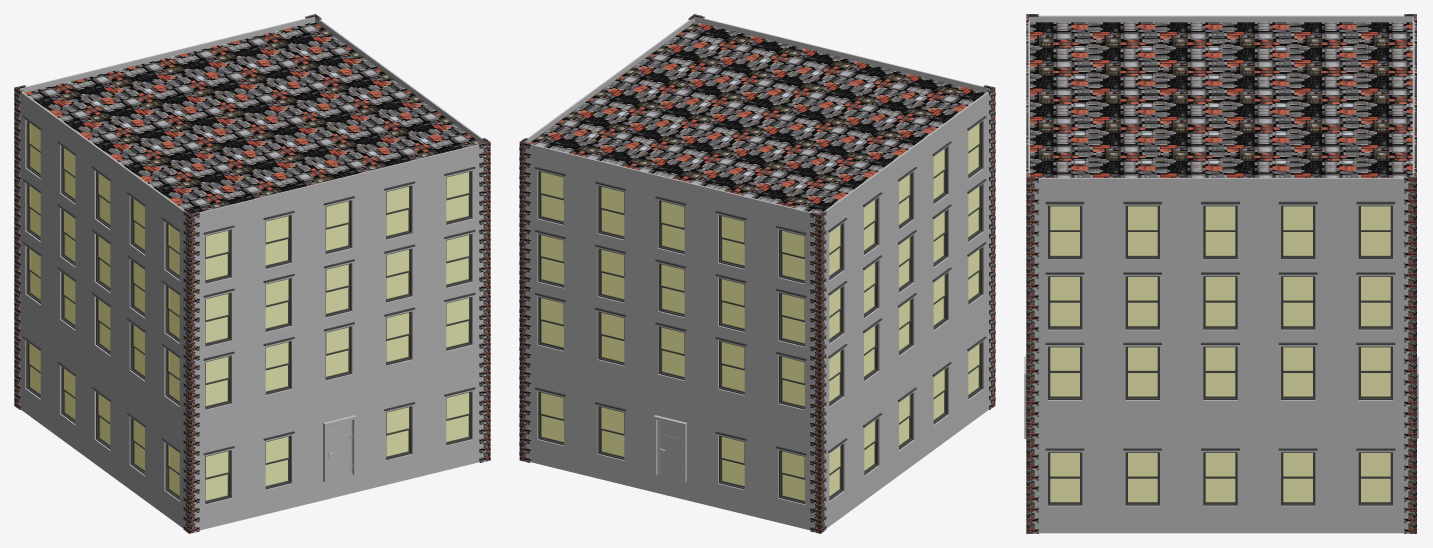
The model's file is Cyberpunk Building V5.fbx.
3 views of the same model, side by side, from view 1: azimuth 30°, elevation 25°; view 2: azimuth 150°, elevation 25°; view 3: azimuth 270°, elevation 25° (orthographic). The views are drawn at different scales.
Parts seen in each view (by area): view 1: Cyberpunk Building V5; view 2: Cyberpunk Building V5; view 3: Cyberpunk Building V5.
Part boxes in pixels (x1,y1,x2,y2): Cyberpunk Building V5: (14,14,490,533); Cyberpunk Building V5: (519,14,995,533); Cyberpunk Building V5: (1024,14,1418,533).
Size of the model in its own units: 1121 by 1128 by 1133.
